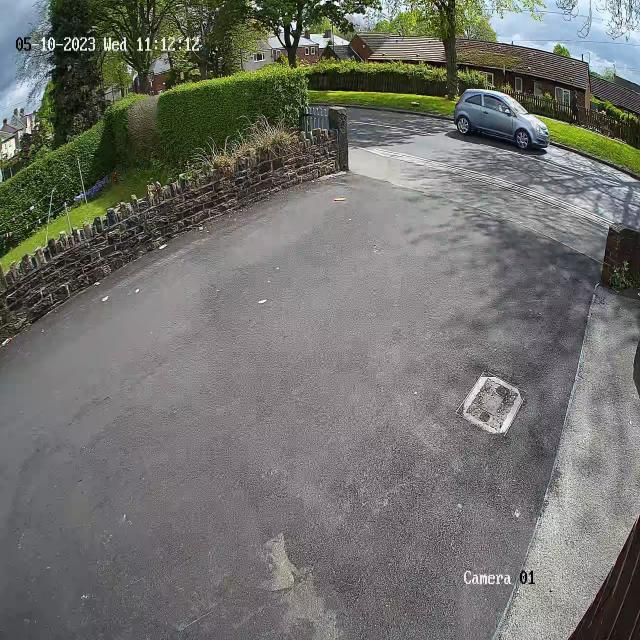vehicle: (448, 74, 556, 164)
